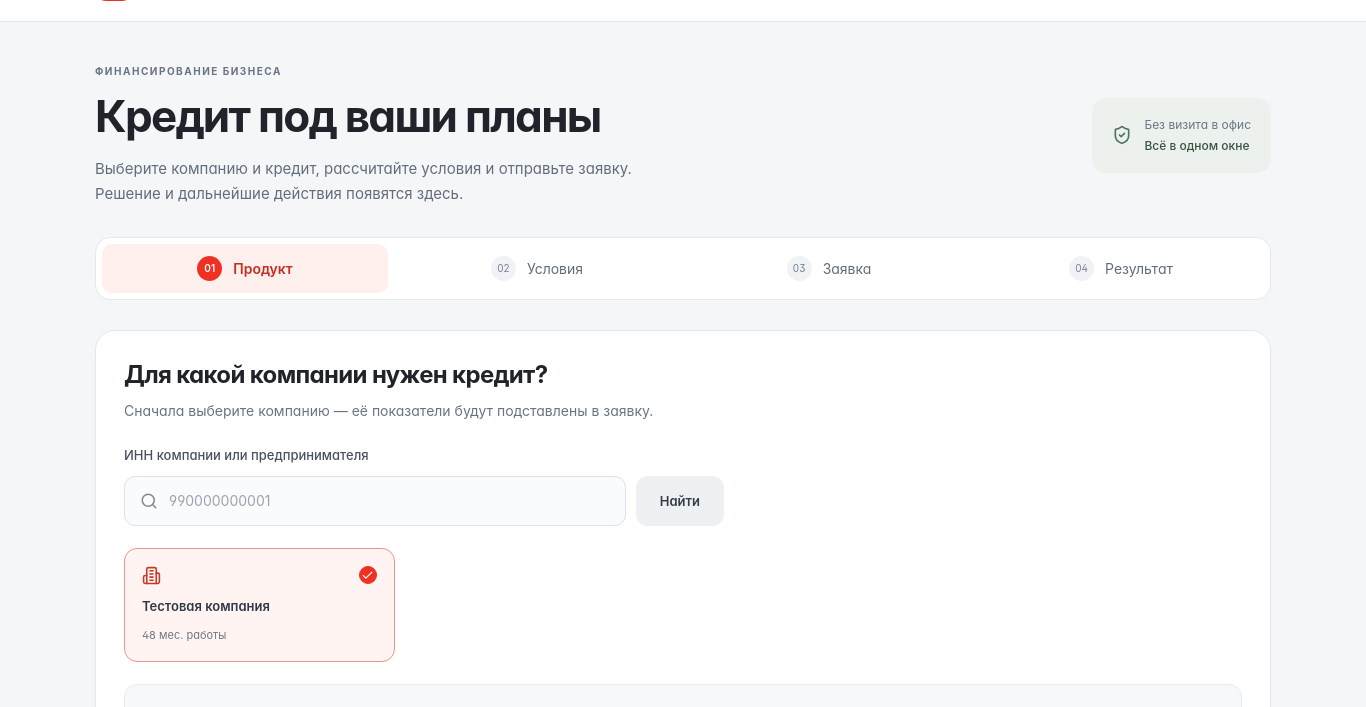
credit form › validates the application before opening a submit confirmation
Press the mouse on the tab "03 Заявка" at (829, 268), box 686,244 -> 972,293
(page scrolled)
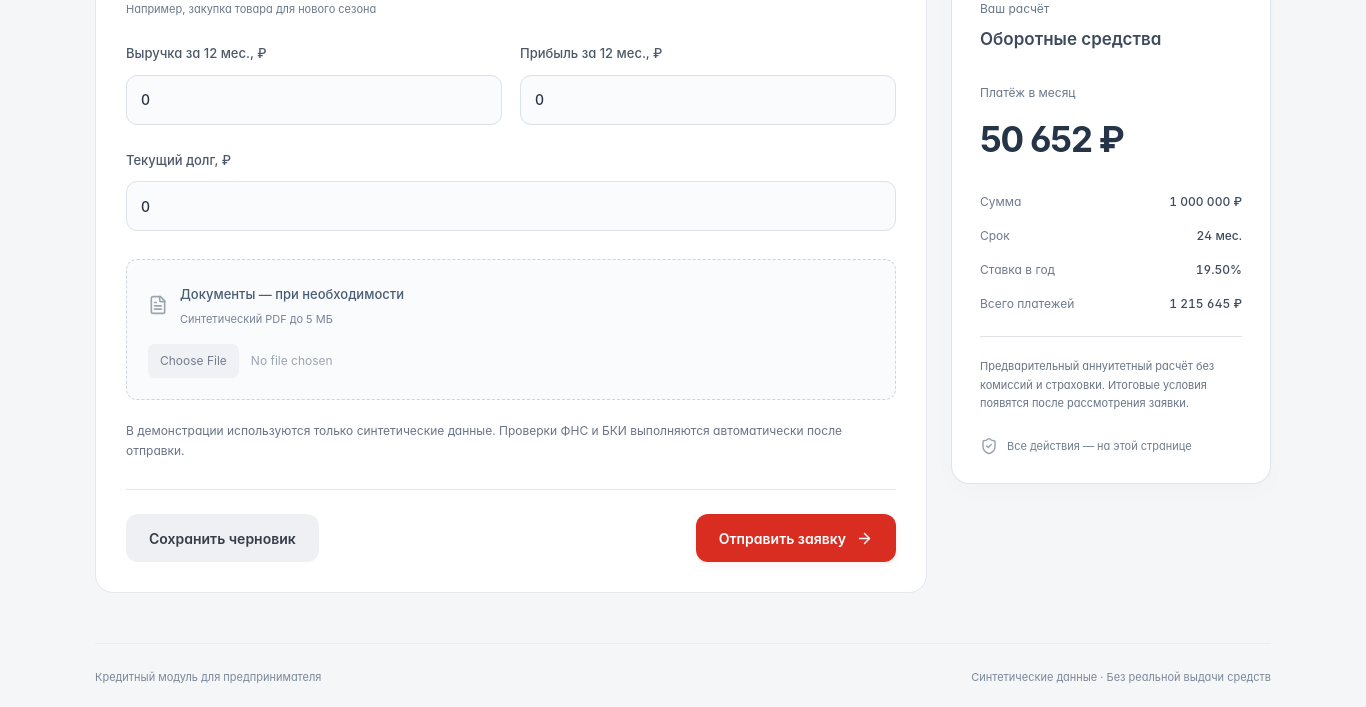
Click the button "Отправить заявку" at (796, 538), box 696,514 -> 896,562
(page scrolled)
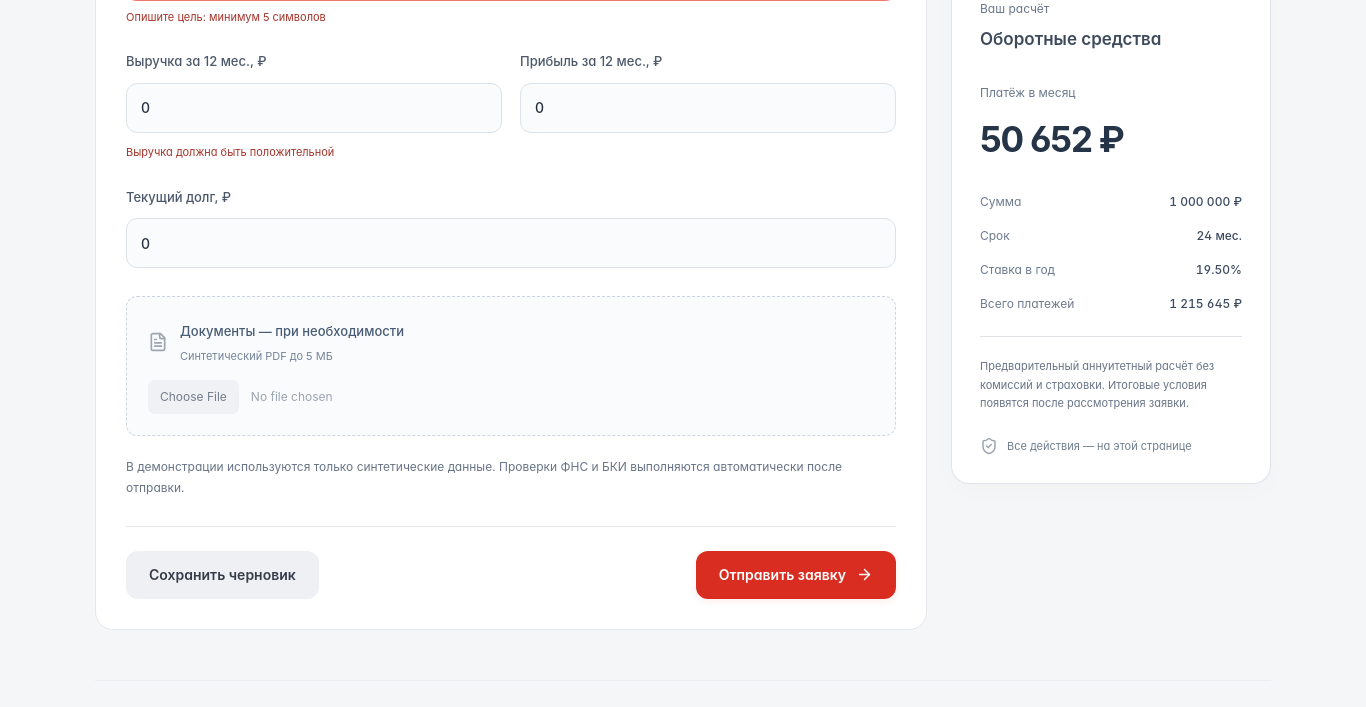
Now the text "Опишите цель: минимум 5 символов" is shown, box 126,10 -> 326,24
